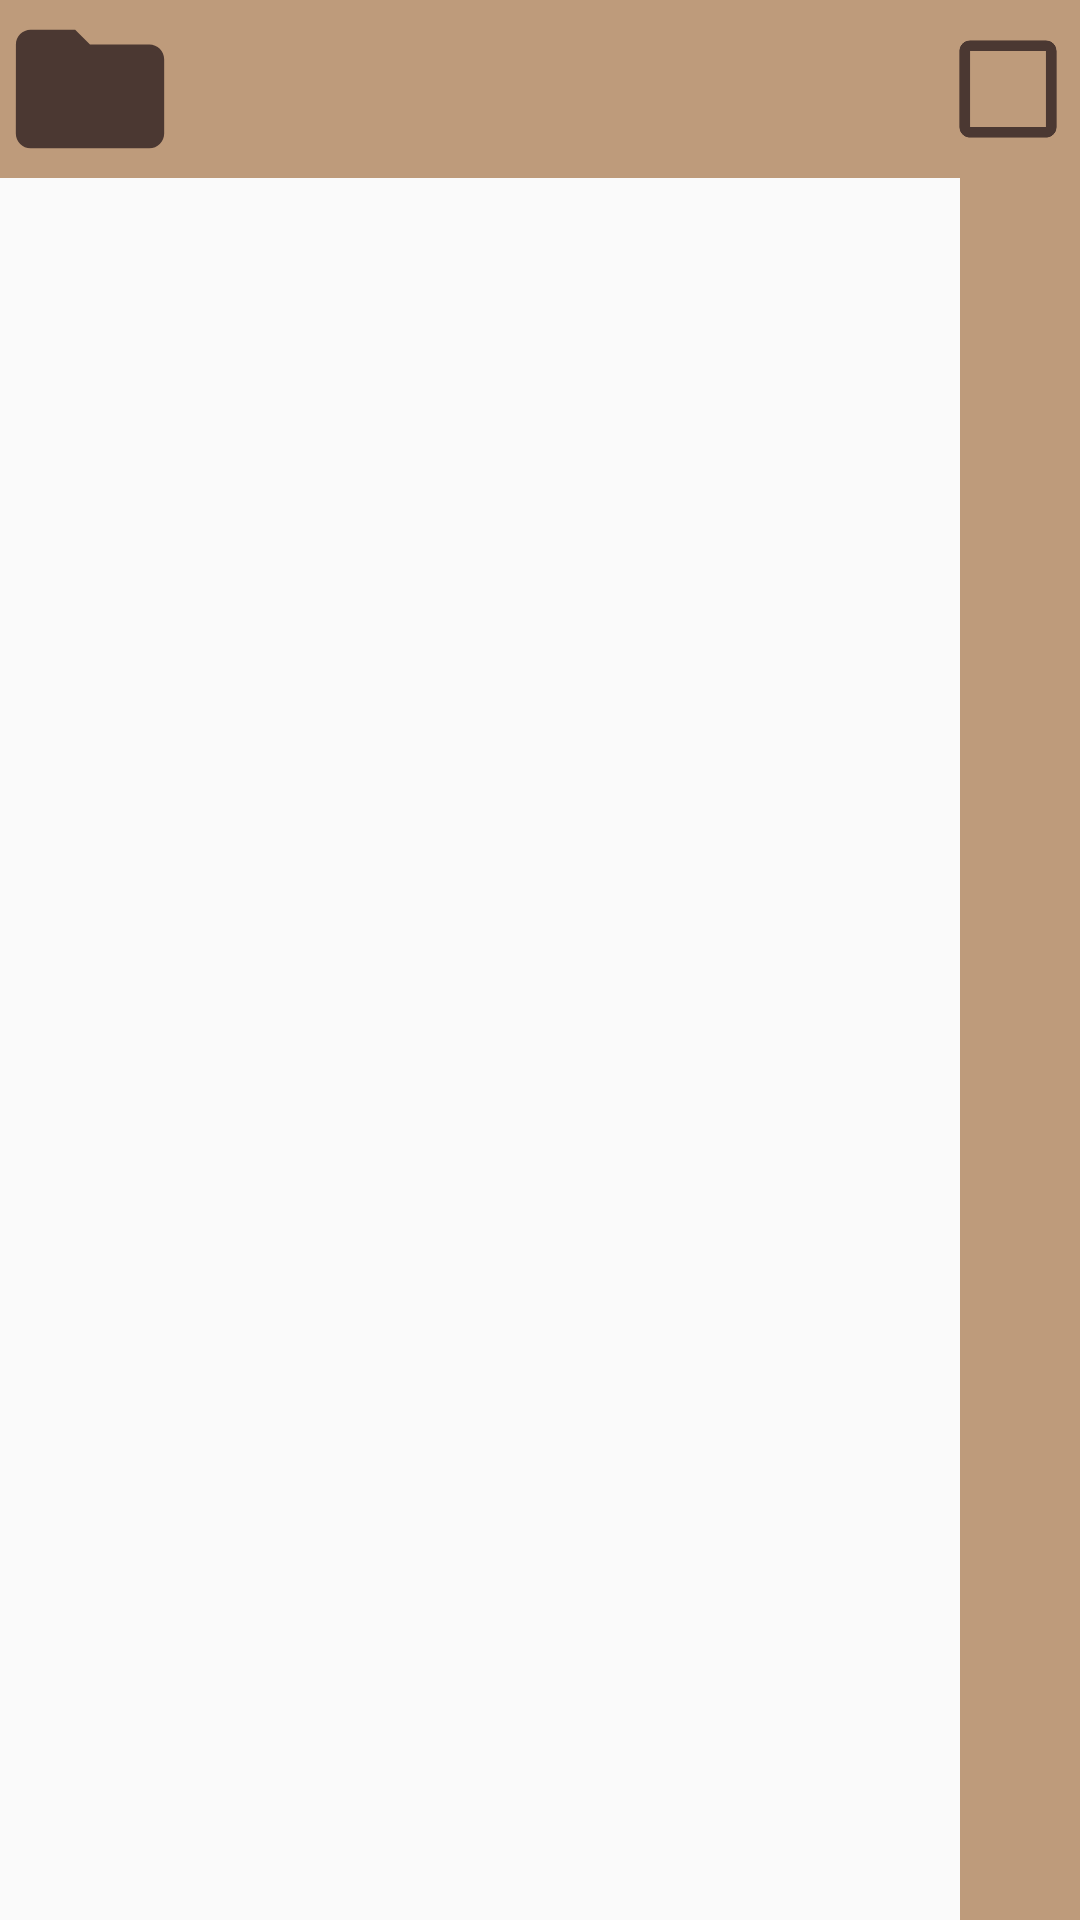

Icons on this 1080×1920 Android screen, each with its box as detection(x1, y1, x2, y2):
folder: detection(16, 29, 164, 149)
